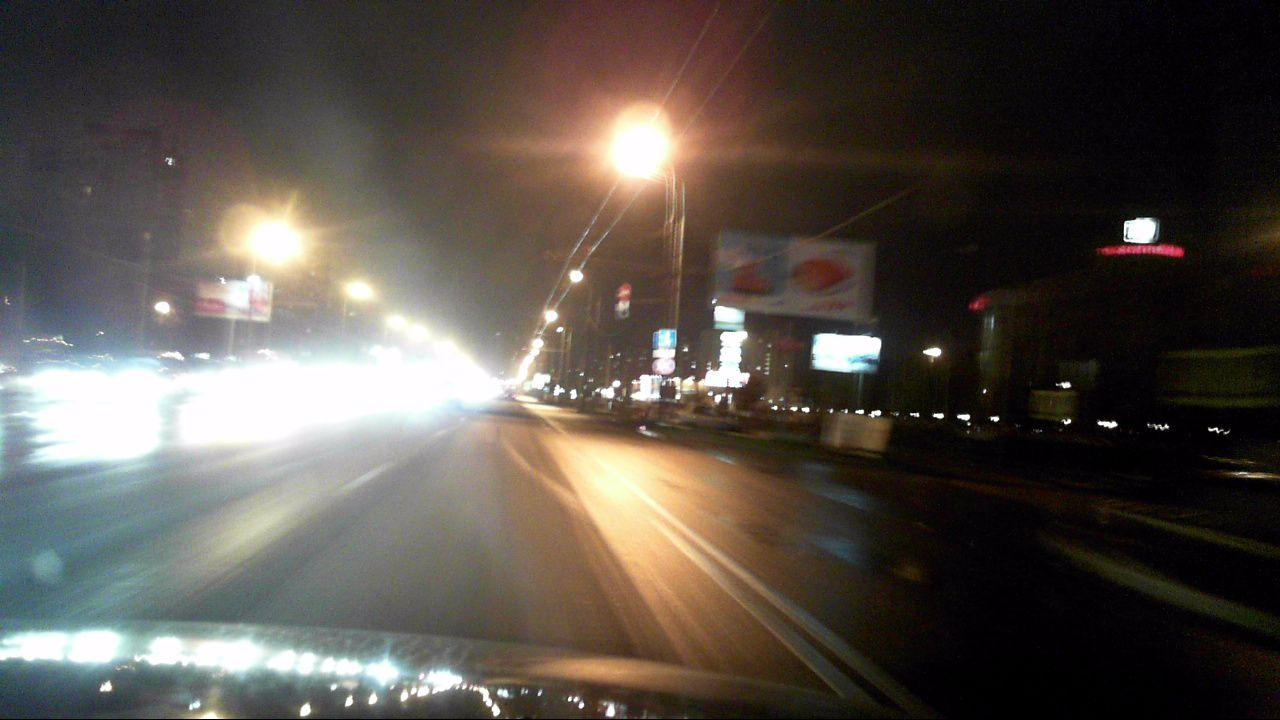3_1: (616, 282, 632, 299)
3_27: (654, 359, 676, 374)
5_14_1: (659, 329, 676, 348)
